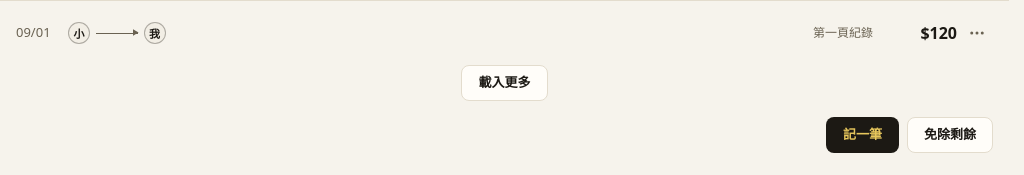
Scenario: CounterpartyDetail › requests outstanding entries and appends the next API page after loading more
Check: the text "第一頁紀錄" is shown, box [813,24,873,42]
Click the button "載入更多". click: (504, 83)
box: [462,65,548,101]
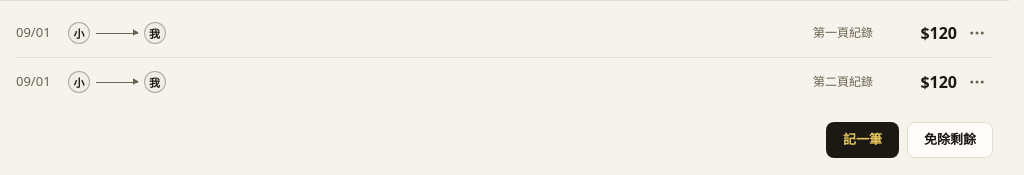
Check: the text "第二頁紀錄" is shown, box [813,73,873,91]
Check: the button "載入更多" is gone
